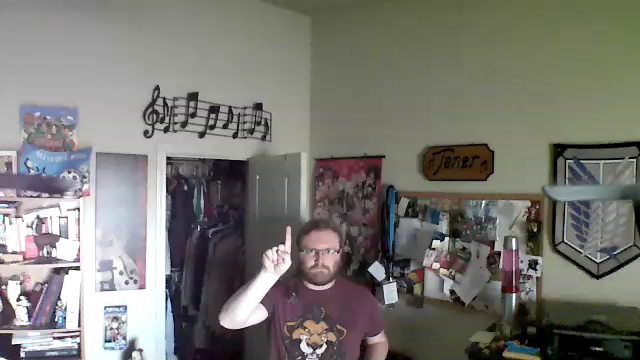up: (255, 222, 296, 276)
